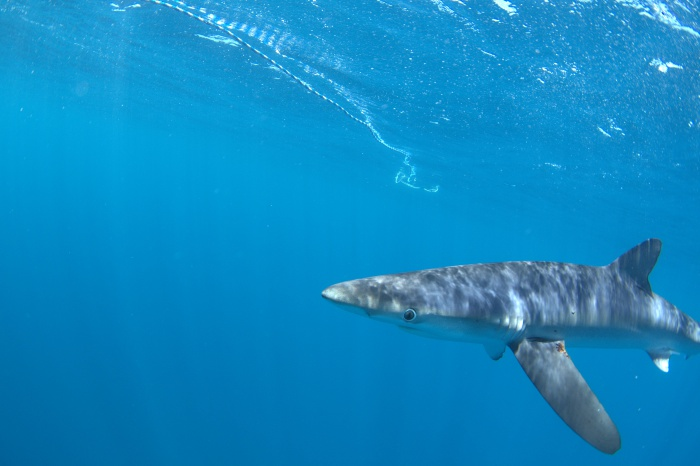Azul: (314, 224, 700, 457)
